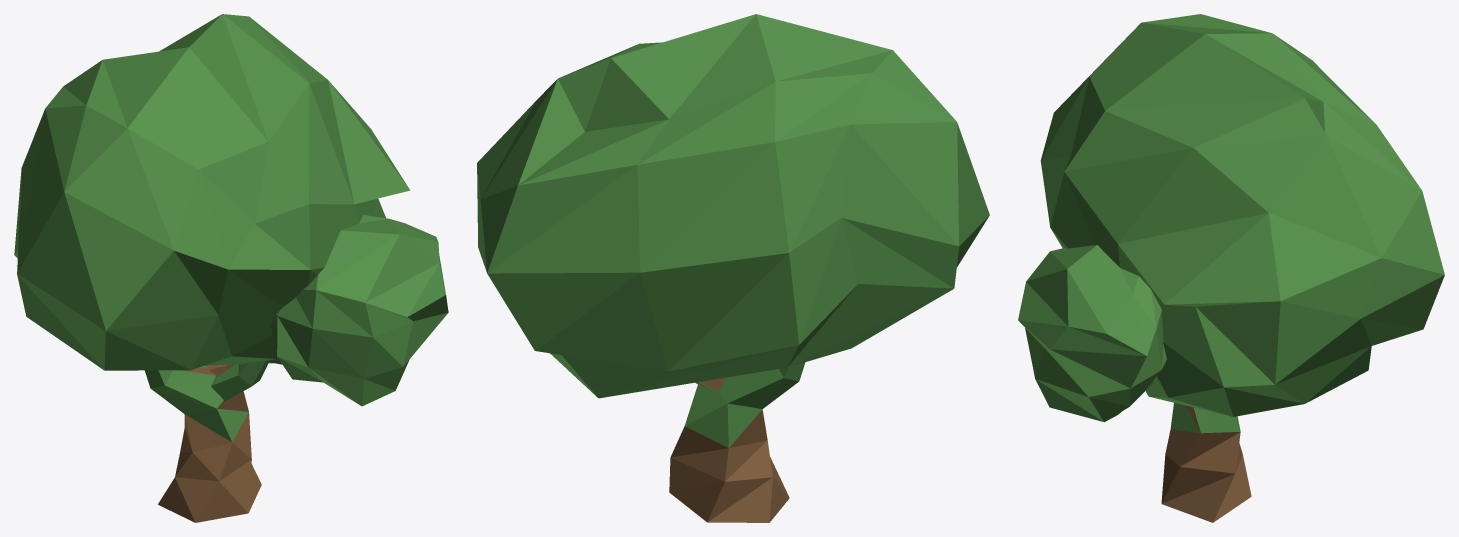
File: tree3d-135.glb
3 renders of one model, left to right at view 1: azimuth 30°, elevation 25°; view 2: azimuth 150°, elevation 25°; view 3: azimuth 270°, elevation 25°, orthographic. The views are drawn at different scales.
Parts seen in each view (by area): view 1: tree3d-135; view 2: tree3d-135; view 3: tree3d-135.
Part boxes in pixels (x1,y1,x2,y2): tree3d-135: (14, 14, 448, 522); tree3d-135: (477, 14, 989, 522); tree3d-135: (1018, 14, 1444, 522).
Size of the model in its own units: 0.9128 by 1 by 0.8559.
